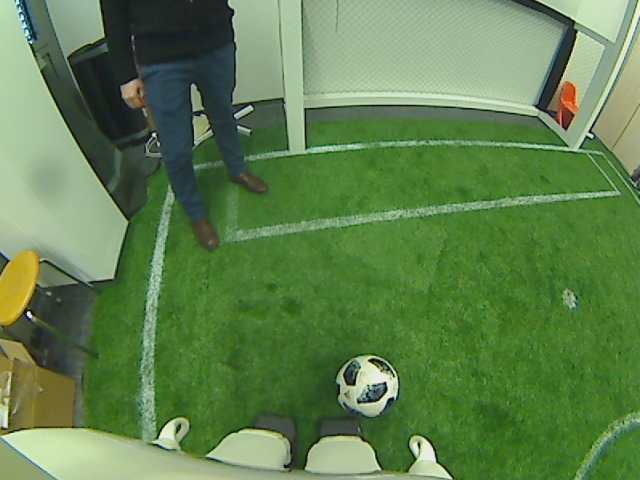ball: (333, 353, 399, 417)
